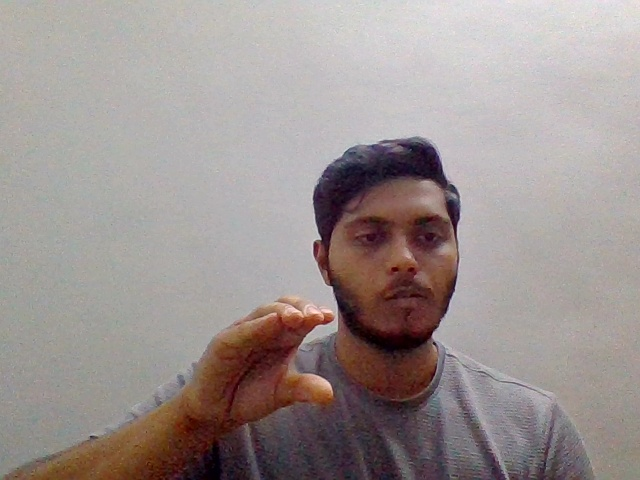No: (174, 290, 347, 451)
